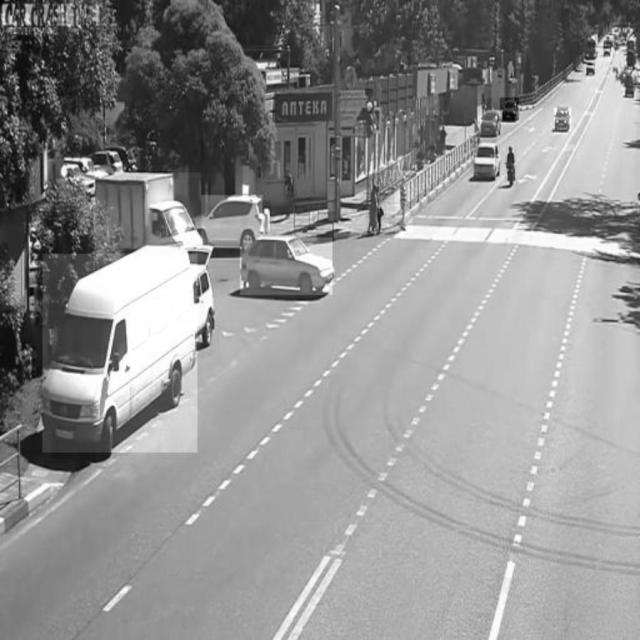person: (366, 174, 386, 238), (396, 170, 413, 232)
vehicle: (43, 254, 197, 452), (93, 173, 201, 249), (240, 238, 332, 295), (196, 195, 263, 247), (471, 139, 501, 180), (505, 147, 519, 188), (481, 110, 503, 135), (554, 108, 571, 132), (500, 98, 518, 120)
